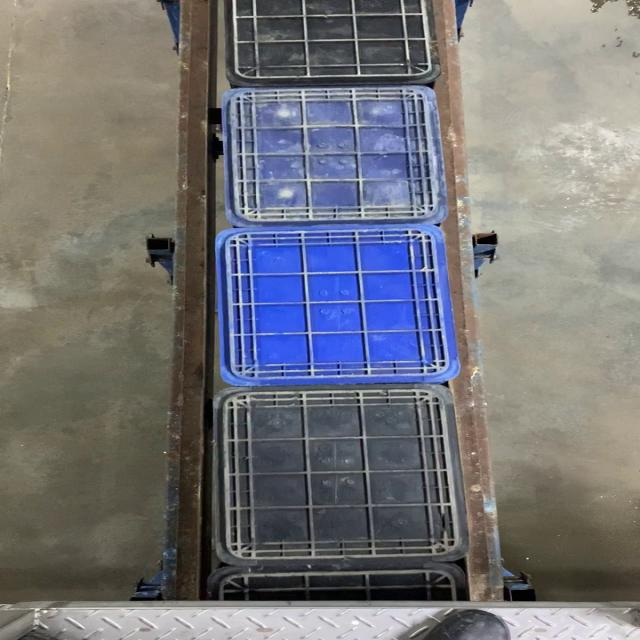Box: (211, 385, 469, 561), (212, 227, 460, 386), (218, 86, 455, 228)
